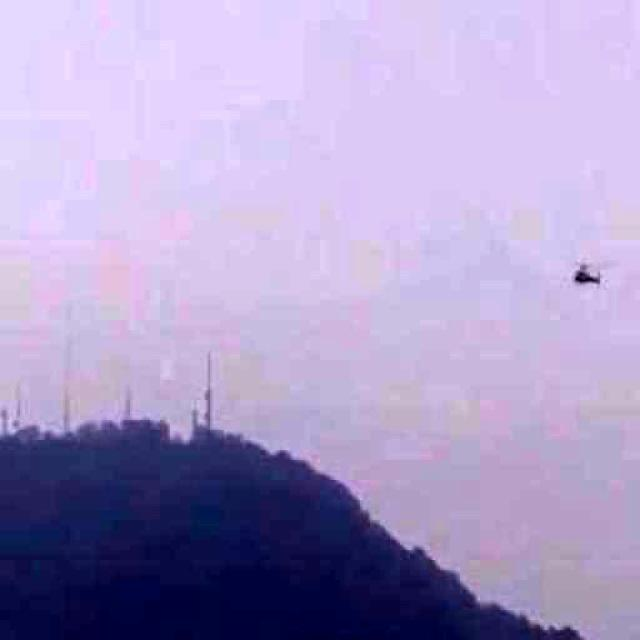drone: (540, 231, 626, 309)
